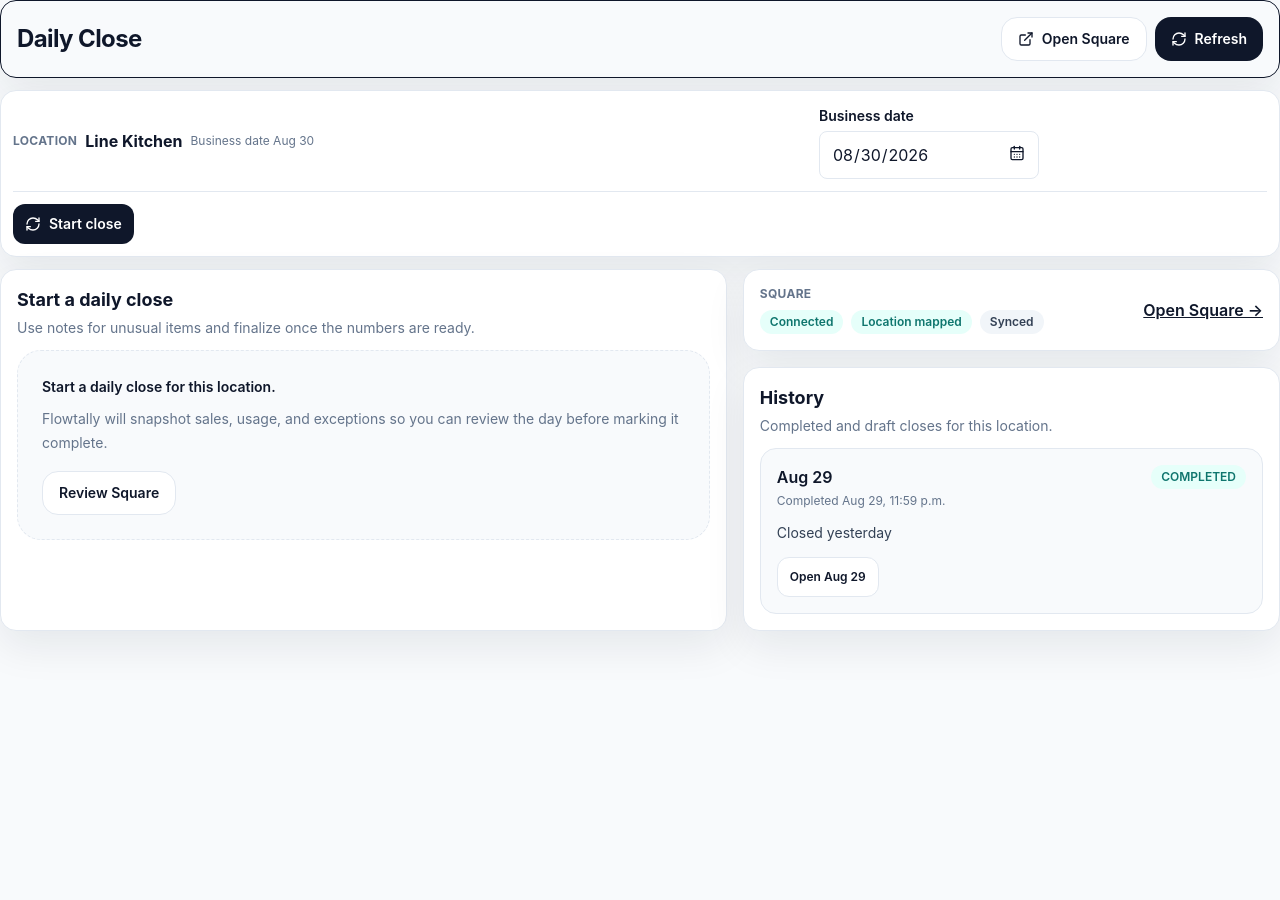
PilotDailyClosePage › opens a historical daily close from history and keeps the loaded session read-only
Expected: the text "Closed yesterday" is shown, x1=777 y1=524 x2=892 y2=541
Click the button "Open Aug 29". click: (828, 577)
box: x1=777 y1=557 x2=879 y2=597
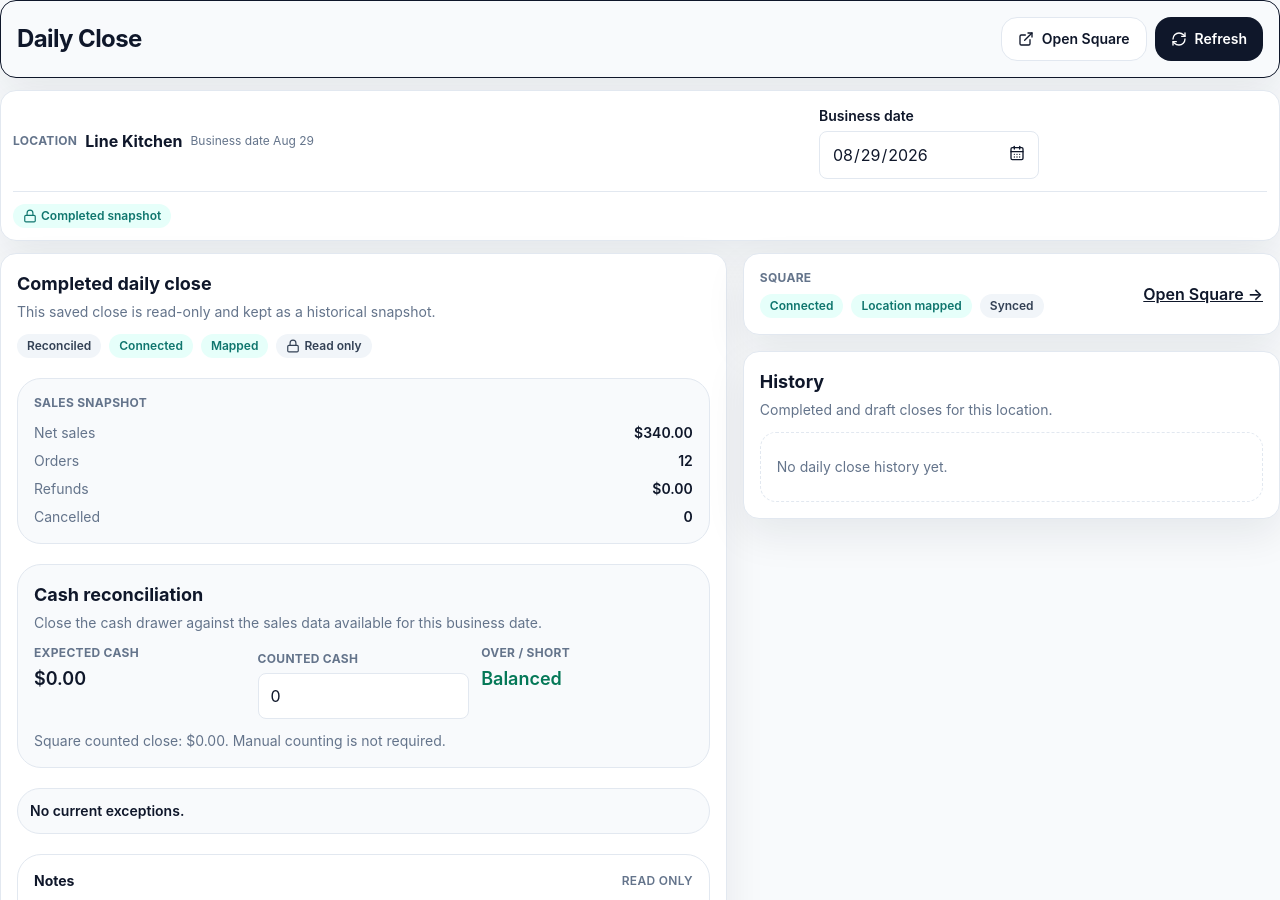
Result: the heading "Completed daily close" is shown at x1=17 y1=273 x2=212 y2=294
Result: the date field labelled "Business date" holds "2026-08-29" at x1=819 y1=131 x2=1039 y2=179
Result: the text "Read only" is shown at x1=276 y1=334 x2=372 y2=358
